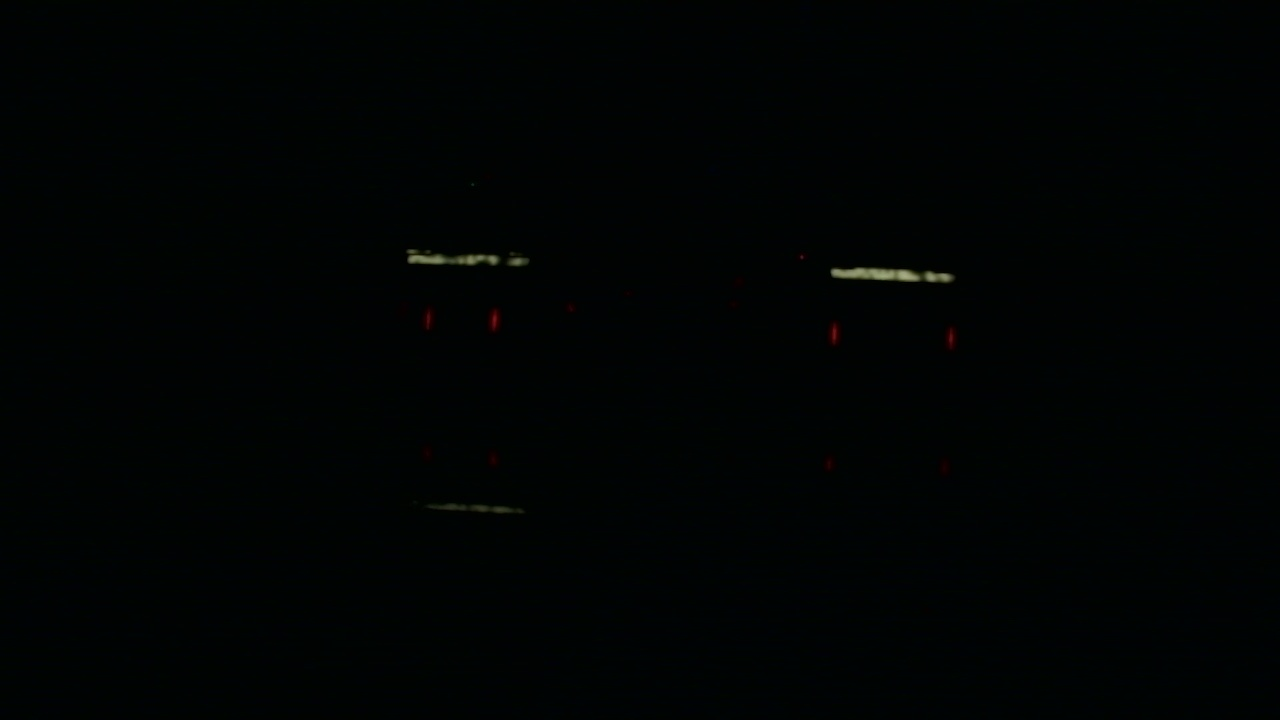lamp: (421, 306, 431, 332), (830, 317, 837, 353), (488, 305, 497, 331), (948, 322, 951, 349)
pair1: (422, 309, 498, 332)
pair2: (830, 323, 954, 350)
